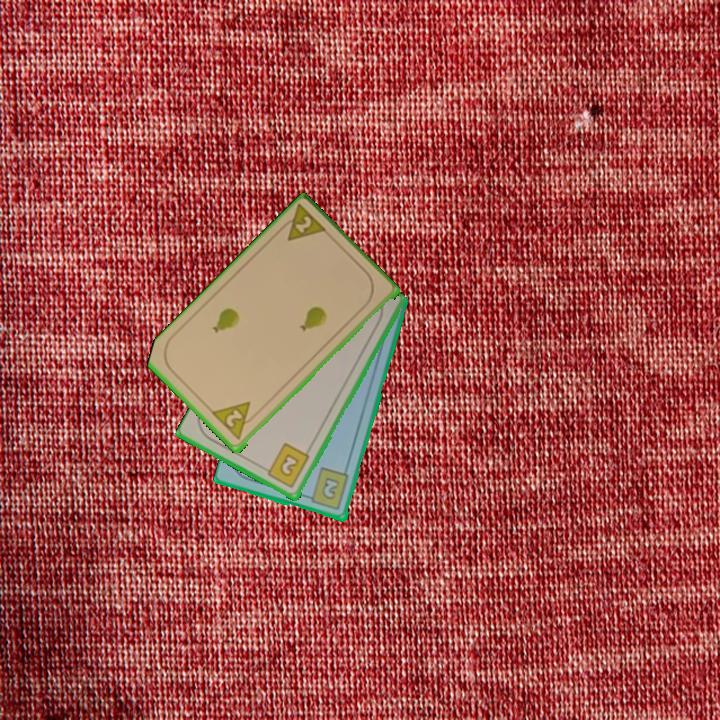2b: (259, 440, 313, 491), (302, 465, 352, 513)
2p: (274, 202, 331, 245), (209, 398, 261, 443)
